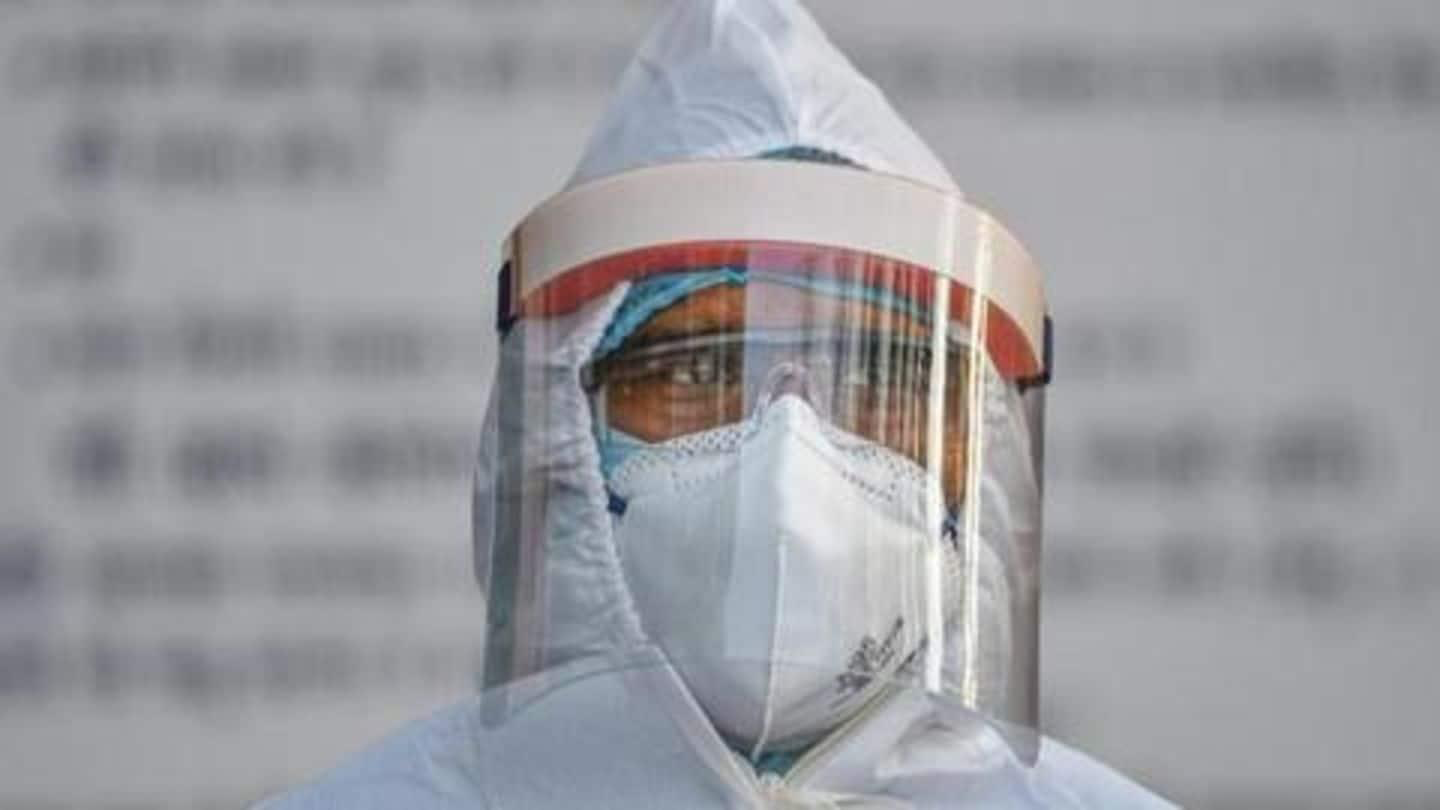Face_Shield: (492, 157, 1059, 804)
Goggles: (583, 321, 986, 452)
with_mask: (596, 382, 970, 767)
